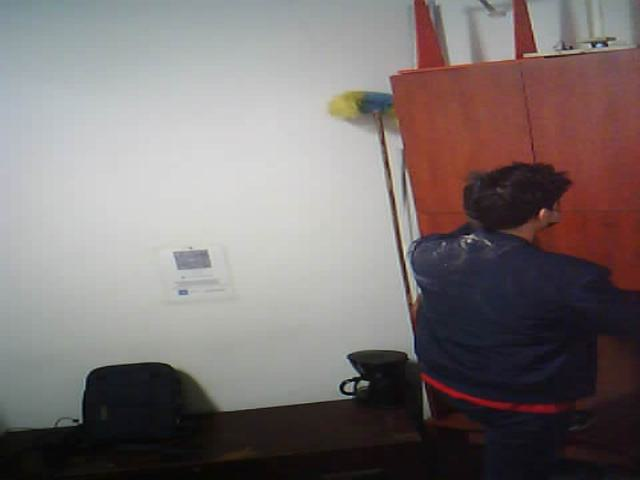person: (376, 134, 640, 480)
